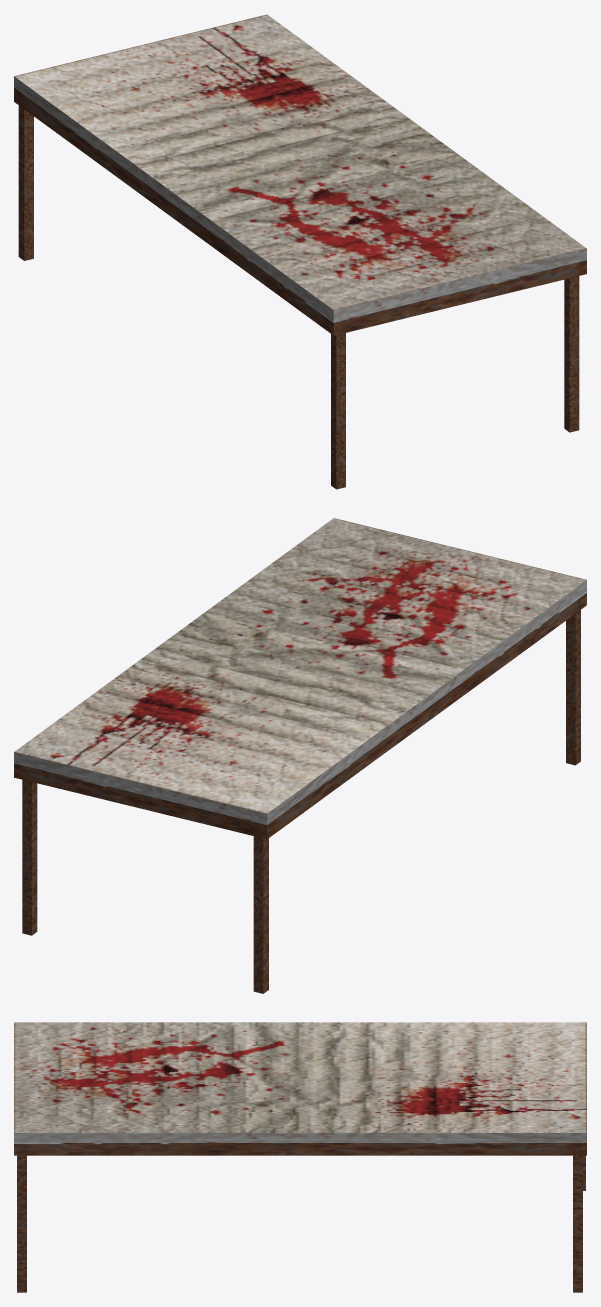
The model's file is low_poly_prisoner_bed_psx.glb.
3 views of the same model, one above another, from view 1: azimuth 30°, elevation 25°; view 2: azimuth 150°, elevation 25°; view 3: azimuth 270°, elevation 25° (orthographic). The views are drawn at different scales.
Visible parts, largest first — view 1: SM_PrisonBed; view 2: SM_PrisonBed; view 3: SM_PrisonBed.
Part boxes in pixels (x1=…): SM_PrisonBed: x1=14, y1=14, x2=586, y2=489; SM_PrisonBed: x1=14, y1=518, x2=586, y2=993; SM_PrisonBed: x1=14, y1=1022, x2=586, y2=1292.
Size of the model in its own units: 1.05 by 0.7211 by 2.3.
Materials: 1 (1 with a texture image).
